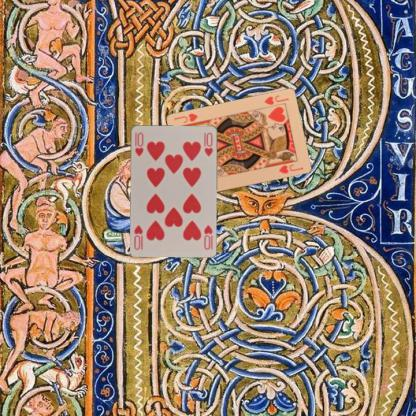10h: (201, 222, 213, 251), (132, 130, 144, 157)
Jh: (262, 92, 289, 107)
